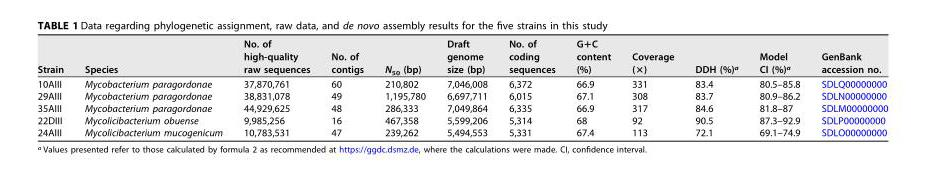table: (37, 37, 888, 137)
table column: (74, 37, 233, 137), (233, 37, 321, 137), (811, 37, 888, 137), (498, 37, 566, 137), (621, 37, 685, 137), (685, 37, 749, 137), (374, 37, 436, 137), (436, 37, 498, 137), (749, 37, 811, 137), (566, 37, 621, 137), (321, 37, 374, 137), (37, 37, 74, 137)
table column header: (37, 37, 888, 76)
table row: (37, 37, 888, 76), (37, 76, 888, 89), (37, 89, 888, 101), (37, 101, 888, 113), (37, 113, 888, 125), (37, 125, 888, 137)
